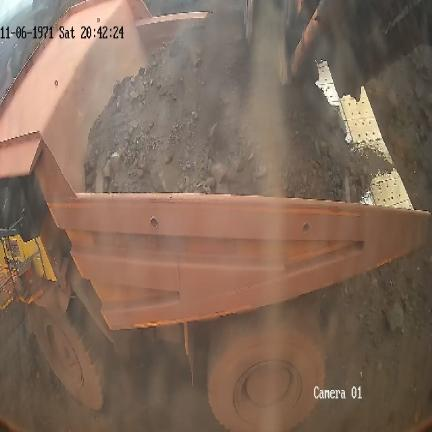pile: (85, 0, 367, 201), (317, 247, 430, 389), (364, 50, 432, 207)
